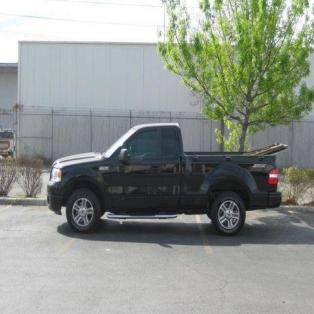Auto: (47, 123, 282, 236)
